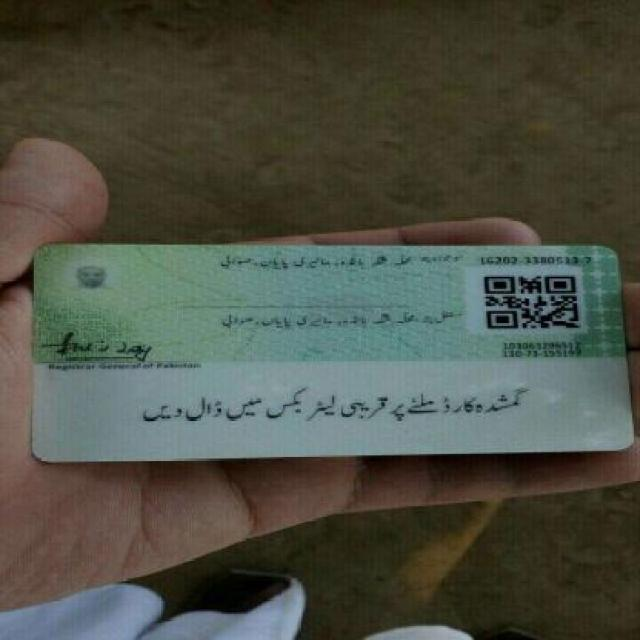Back: (21, 237, 638, 461)
